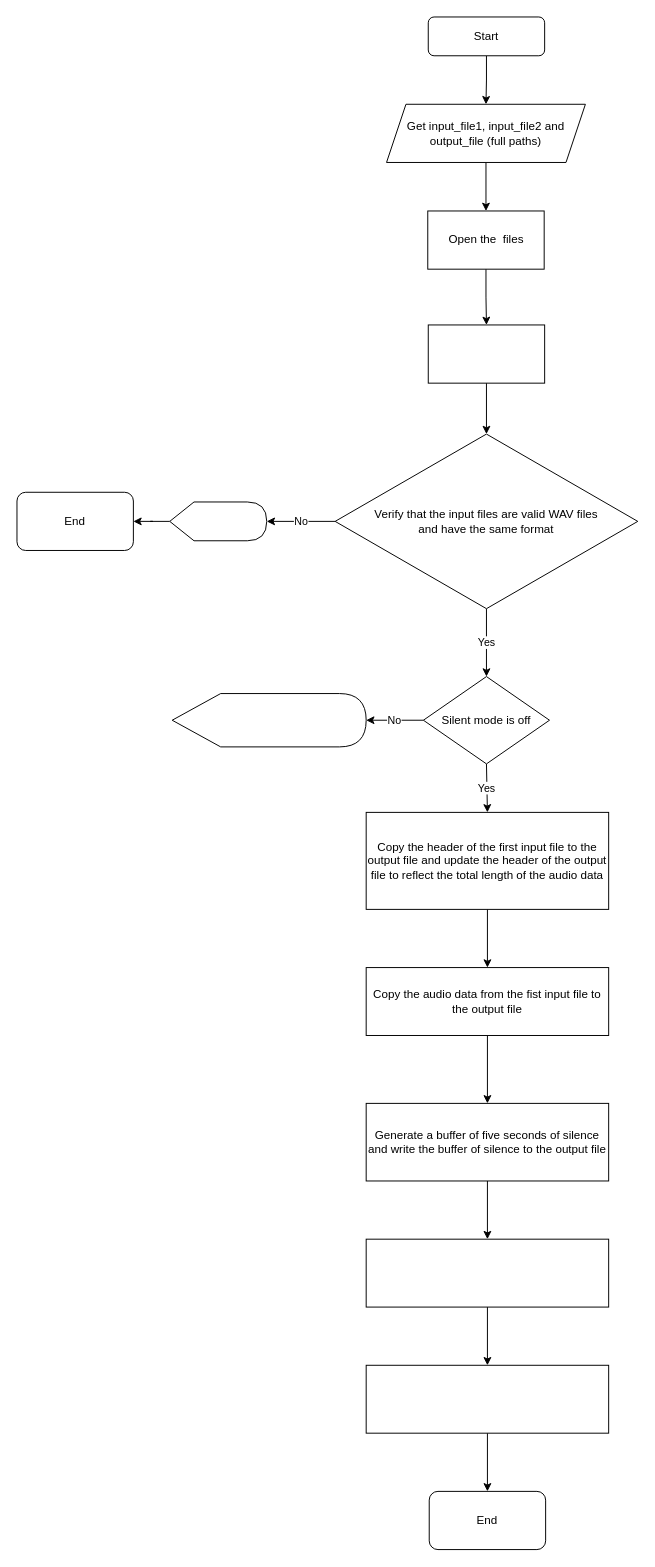
The diagram is 655 pixels wide and 1567 high, and some of its shapes have lost their labels. The box of each missing label's shape, as (x1, y1, x2, y2) in pixels:
Close the filesand free the silence buffer: (365, 1364, 609, 1433)
Copy the audio data from the second input file to the output file: (365, 1238, 609, 1307)
Display error: (169, 501, 267, 541)
Display the difference in sound data length: (171, 693, 366, 747)
Read the headers of the input files: (427, 324, 545, 383)
